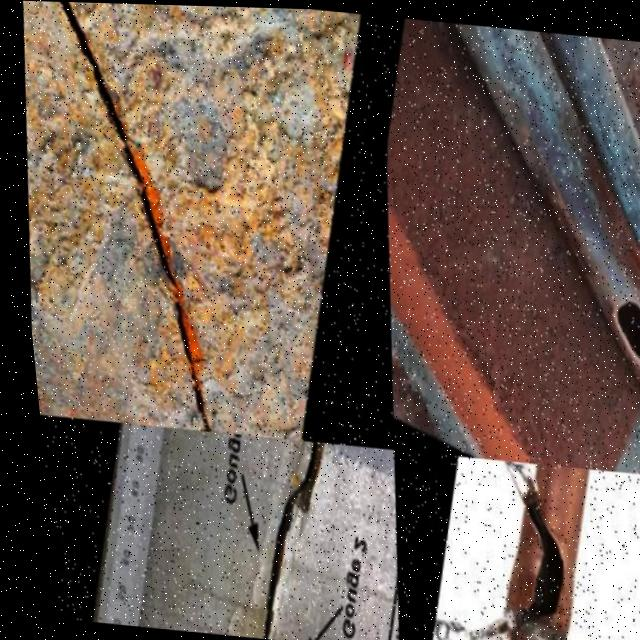crack: (38, 2, 215, 434), (246, 441, 325, 640)
hole: (589, 277, 640, 374)
rupture: (483, 505, 569, 640)
